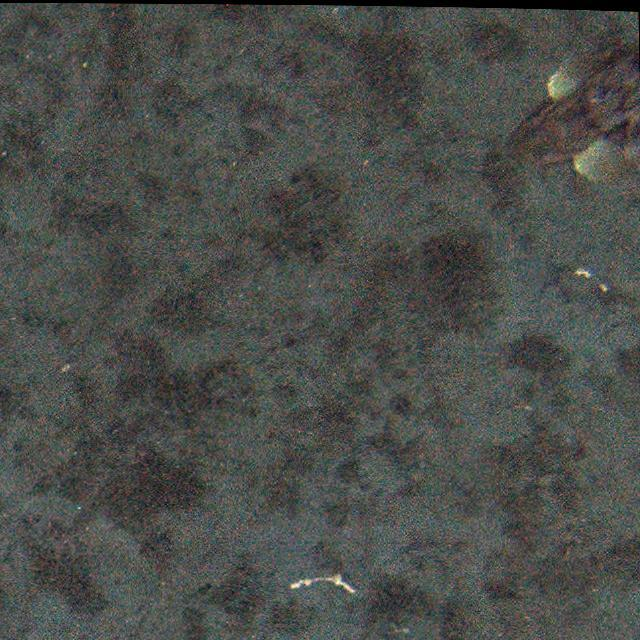roundfish: (504, 50, 640, 174)
